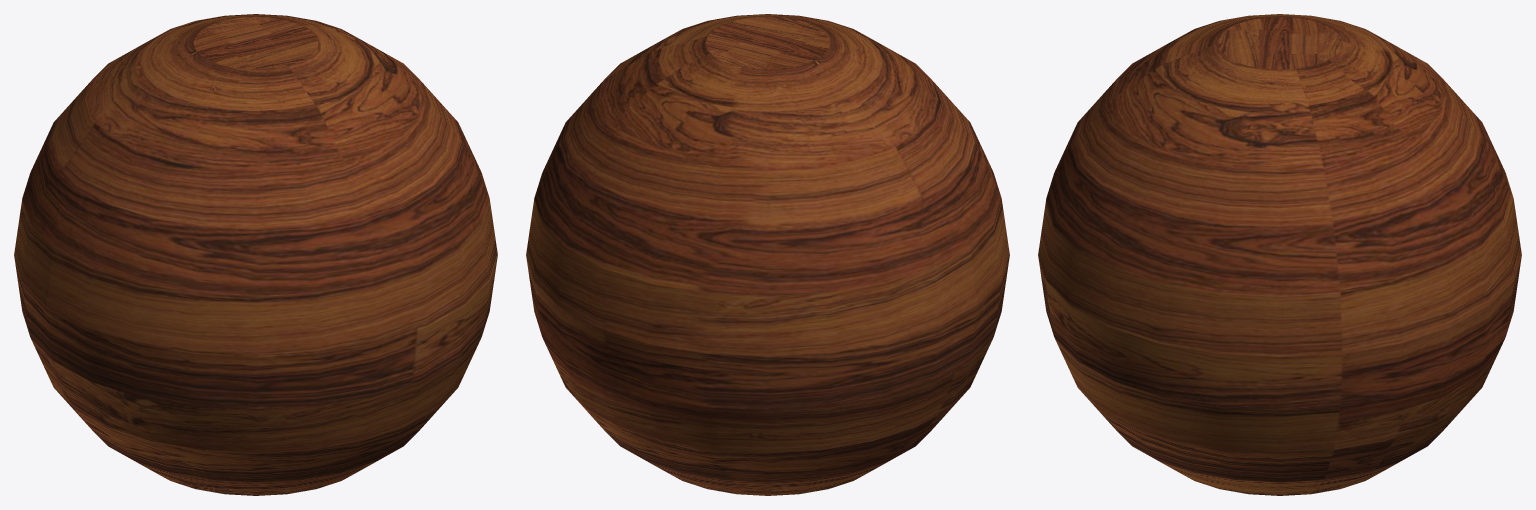
File: BallWood.fbx
3 renders of one model, left to right at view 1: azimuth 30°, elevation 25°; view 2: azimuth 150°, elevation 25°; view 3: azimuth 270°, elevation 25°, orthographic.
Parts seen in each view (by area): view 1: BallWood; view 2: BallWood; view 3: BallWood.
Part boxes in pixels (x1,y1,x2,y2): BallWood: (14, 14, 497, 495); BallWood: (526, 14, 1009, 495); BallWood: (1038, 14, 1521, 495).
Size of the model in its own units: 81 by 78.24 by 81.
